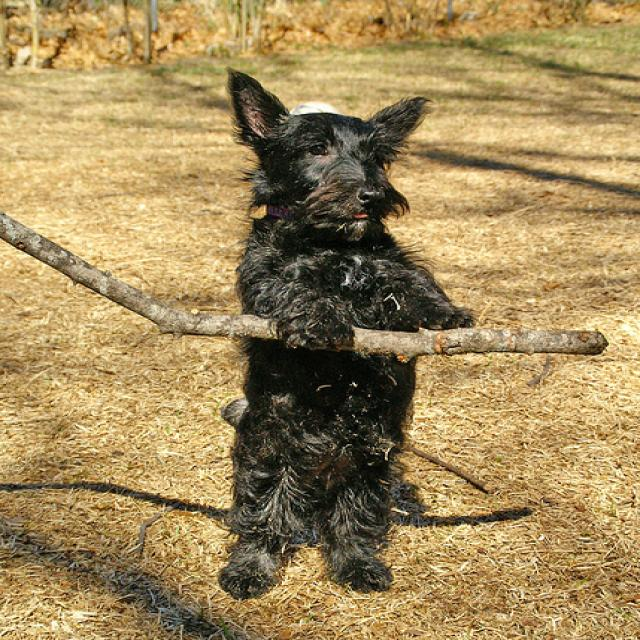dog: (227, 66, 419, 235)
